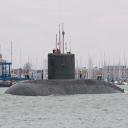submarine: (4, 53, 126, 98)
